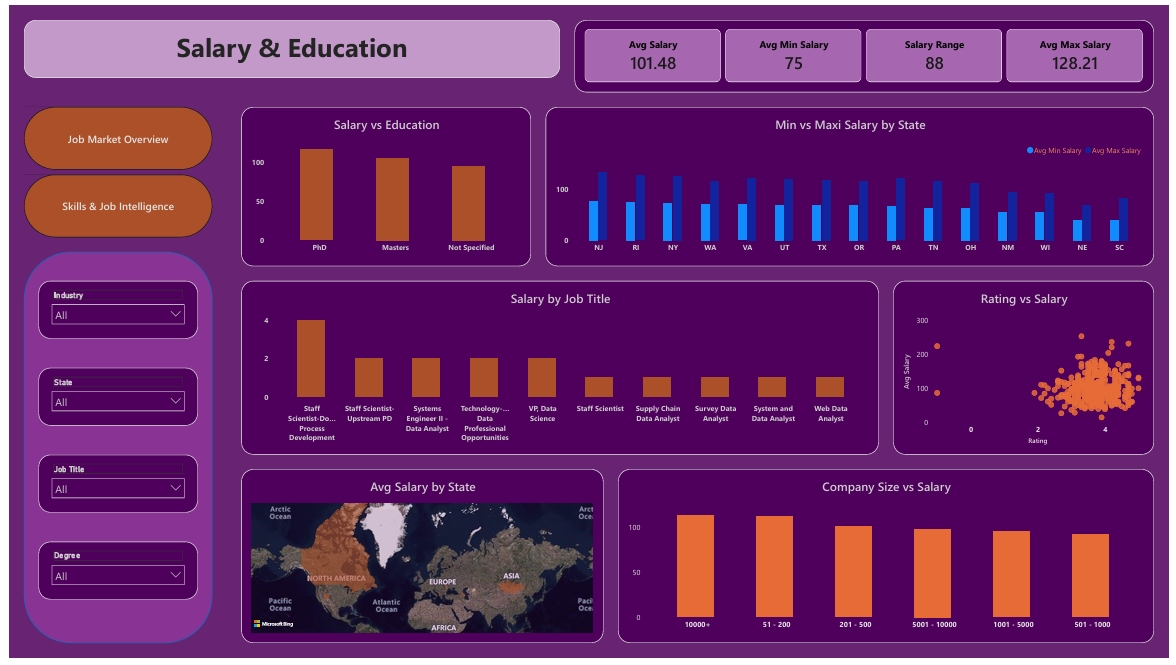

The page's visual inventory and layout, read from the dashboard file:
{"tool":"powerbi","page":{"name":"Salary & Education Intelligence","canvas":[1920,1080],"ordinal":1},"visuals":[{"type":"shape","box":[24,408,312,648],"z":0},{"type":"textbox","box":[24,24,888,96],"z":1000},{"type":"filledMap","title":"Avg Salary by State","fields":{"Category":["Job_M_Analysis.Job_Location"]},"box":[384,768,600,288],"z":2000},{"type":"cardVisual","fields":{"Data":["Job_M_Analysis.Average Salary","Job_M_Analysis.Average Minimum Salary","Count(Job_M_Analysis.Salary Range)","Job_M_Analysis.Average Maximum Salary"]},"box":[936,24,960,120],"z":3000},{"type":"clusteredColumnChart","title":"Min vs Maxi Salary by State","fields":{"Category":["Job_M_Analysis.Job_Location"],"Y":["Job_M_Analysis.Average Minimum Salary","Job_M_Analysis.Average Maximum Salary"]},"box":[888,168,1008,264],"z":4000},{"type":"columnChart","title":"Salary by Job Title","fields":{"Category":["Job_M_Analysis.Job_Title"],"Y":["Job_M_Analysis.Total Jobs"]},"box":[384,456,1056,288],"z":5000},{"type":"clusteredColumnChart","title":"Salary vs Education","fields":{"Category":["Job_M_Analysis.Education"],"Y":["Job_M_Analysis.Average Salary"]},"box":[384,168,480,264],"z":6000},{"type":"slicer","fields":{"Values":["Job_M_Analysis.Job_Location"]},"box":[48,600,264,96],"z":7000},{"type":"slicer","title":"Industry","fields":{"Values":["Job_M_Analysis.Industry"]},"box":[48,456,264,96],"z":8000},{"type":"slicer","fields":{"Values":["Job_M_Analysis.Job_Title"]},"box":[48,744,264,96],"z":9000},{"type":"slicer","title":"Industry","fields":{"Values":["Job_M_Analysis.Education"]},"box":[48,888,264,96],"z":10000},{"type":"scatterChart","title":"Rating vs Salary","fields":{"X":["Job_M_Analysis.Rating"],"Y":["Job_M_Analysis.Avg_SalaryK"]},"box":[1464,456,432,288],"z":11000},{"type":"lineClusteredColumnComboChart","title":"Company Size vs Salary ","fields":{"Category":["Job_M_Analysis.Company Size"],"Y":["Job_M_Analysis.Average Salary"]},"box":[1008,768,888,288],"z":12000},{"type":"pageNavigator","box":[24,168,312,216],"z":13000}]}

Visuals, with their boxes in screenshot pixels (x1, y1, x2, y2), scaled from the page's 1920x1080 canvas onto the 1176x665 screenshot:
shape: BBox(15, 251, 206, 650)
textbox: BBox(15, 15, 559, 74)
"Avg Salary by State" filledMap: BBox(235, 473, 603, 650)
cardVisual - Job_M_Analysis.Average Salary x Job_M_Analysis.Average Minimum Salary: BBox(573, 15, 1161, 89)
"Min vs Maxi Salary by State" clusteredColumnChart: BBox(544, 103, 1161, 266)
"Salary by Job Title" columnChart: BBox(235, 281, 882, 458)
"Salary vs Education" clusteredColumnChart: BBox(235, 103, 529, 266)
slicer - Job_M_Analysis.Job_Location: BBox(29, 369, 191, 429)
"Industry" slicer: BBox(29, 281, 191, 340)
slicer - Job_M_Analysis.Job_Title: BBox(29, 458, 191, 517)
"Industry" slicer: BBox(29, 547, 191, 606)
"Rating vs Salary" scatterChart: BBox(897, 281, 1161, 458)
"Company Size vs Salary " lineClusteredColumnComboChart: BBox(617, 473, 1161, 650)
pageNavigator: BBox(15, 103, 206, 236)
